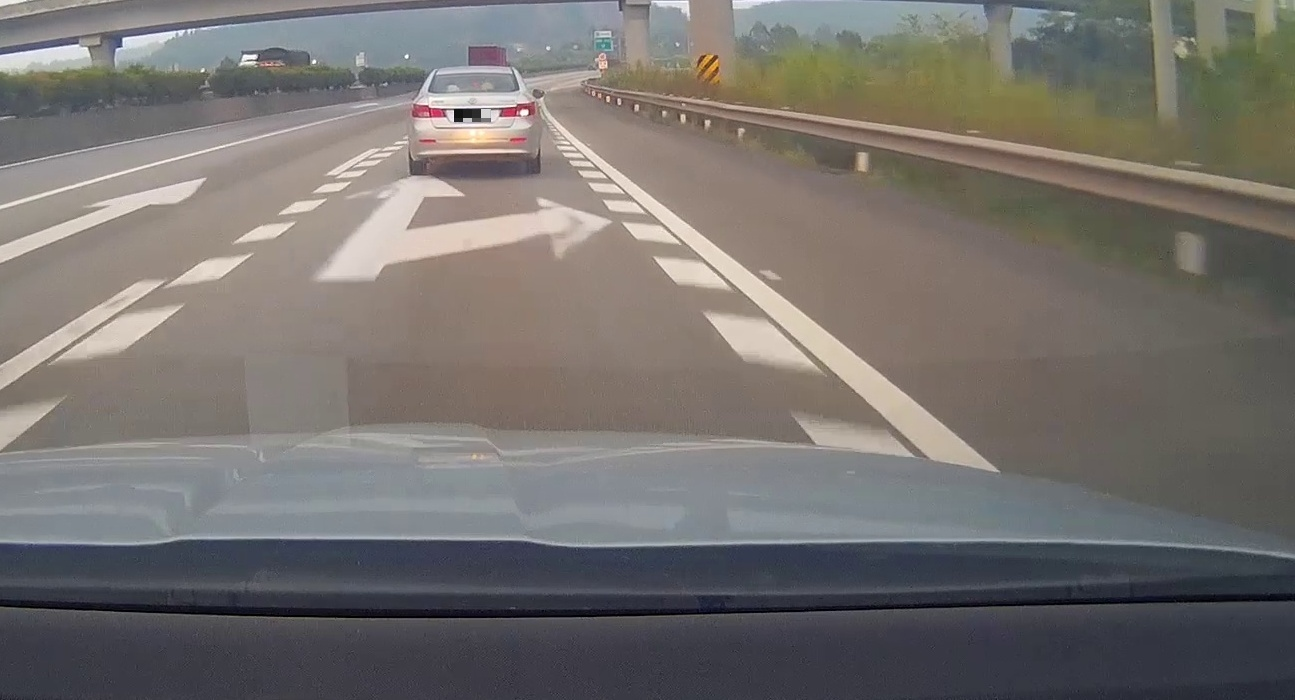L_light: (411, 102, 447, 119)
R_light: (498, 102, 535, 118)
T_light: (468, 73, 480, 76)
day-right: (408, 66, 538, 176)
plate_1: (454, 109, 491, 122)
